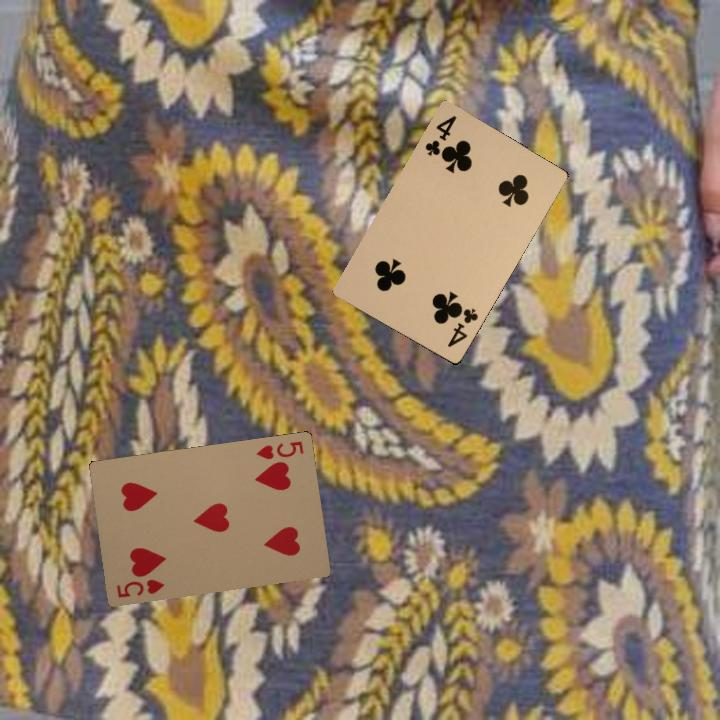4c: (421, 111, 459, 158), (443, 304, 481, 350)
5h: (252, 437, 306, 462), (113, 575, 167, 600)
